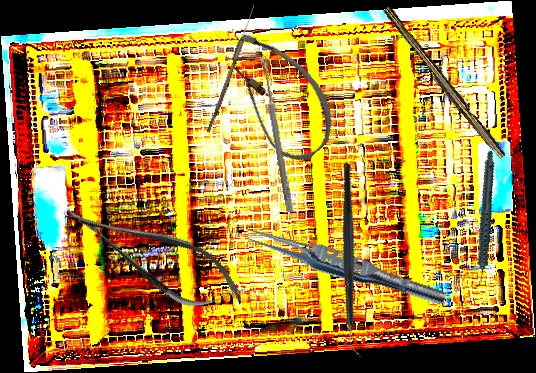Cannula: (203, 20, 352, 173)
Chopper: (286, 162, 420, 359)
Handpiece: (446, 150, 522, 291)
Micro Scissor: (54, 183, 254, 328)
Scalpel Handle: (378, 5, 509, 162)
Surgical Spoon: (206, 4, 257, 134), (259, 55, 295, 213)
Tissue Forceps: (241, 222, 450, 310)
